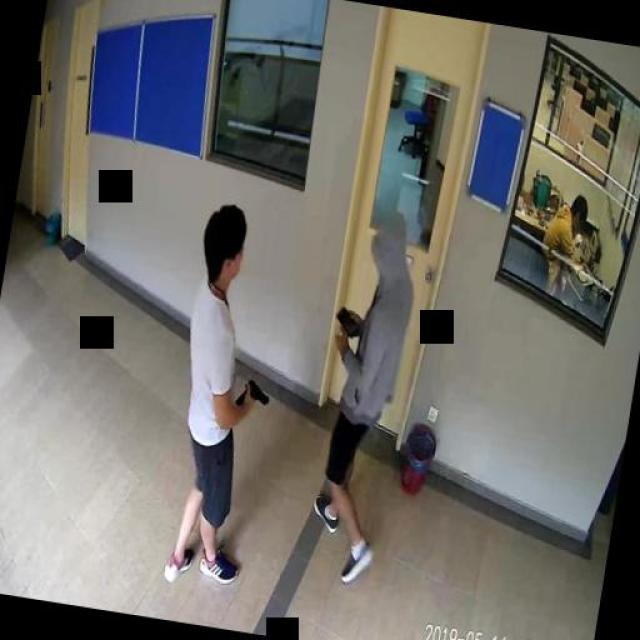gun: (231, 374, 270, 411)
